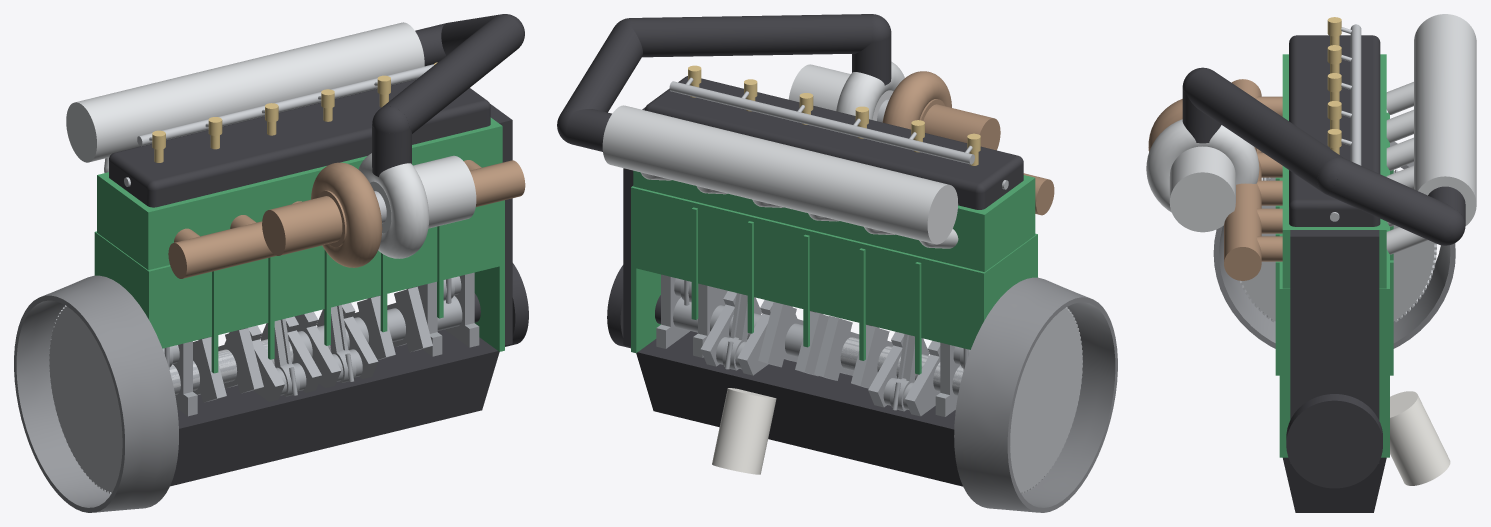
Rendered from diesel.glb.
3 renders of one model, left to right at view 1: azimuth 30°, elevation 25°; view 2: azimuth 150°, elevation 25°; view 3: azimuth 270°, elevation 25°, orthographic. The views are drawn at different scales.
Visible parts, largest first — view 1: block, oilpan, bellhousing, intake, cover, crankshaft, head, chargepipe, flywheel, turbine, compressor, exhaust (+6 smaller); view 2: block, intake, bellhousing, oilpan, crankshaft, chargepipe, cover, head, flywheel, turbine, oilfilter, compressor (+7 smaller); view 3: timingcover, chargepipe, intake, cover, compressor, pulley, exhaust, block, bellhousing, oilfilter, flywheel, head (+4 smaller).
Boxes of the visible parts, x1,y1,x2,y2 form: block: (94,200,504,373); oilpan: (170,329,499,486); bellhousing: (14,275,178,512); intake: (66,22,424,172); cover: (109,79,490,207); crankshaft: (169,272,479,416); head: (97,117,502,270); chargepipe: (372,14,524,176); flywheel: (49,305,293,493); turbine: (262,162,382,267); compressor: (358,153,476,258); exhaust: (168,160,525,278); block: (631,186,1037,374); intake: (602,105,958,248); bellhousing: (954,277,1117,512); oilpan: (636,331,962,486); crankshaft: (656,274,963,416); chargepipe: (557,14,891,151); cover: (645,76,1023,209); head: (633,170,1035,271); flywheel: (840,307,1082,493); turbine: (882,71,1000,150); oilfilter: (712,388,776,474); compressor: (788,61,904,120); timingcover: (1290,230,1379,463); chargepipe: (1182,67,1465,245); intake: (1386,14,1476,254); cover: (1289,35,1380,226); compressor: (1146,119,1259,232); pulley: (1286,394,1382,488); exhaust: (1224,79,1282,280); block: (1275,112,1393,457); bellhousing: (1213,141,1455,348); oilfilter: (1390,391,1450,485); flywheel: (1240,169,1436,322); head: (1282,54,1386,288).
Bounding box in the file's own units: 0.997 × 0.8252 × 0.6198.
